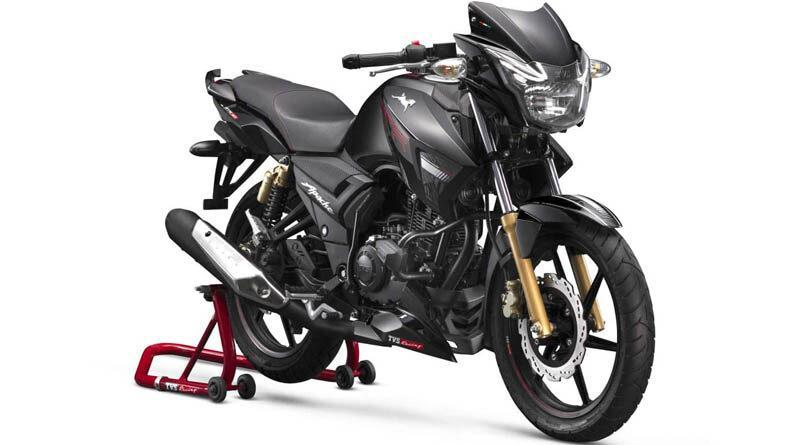motorbike: (165, 2, 655, 443)
